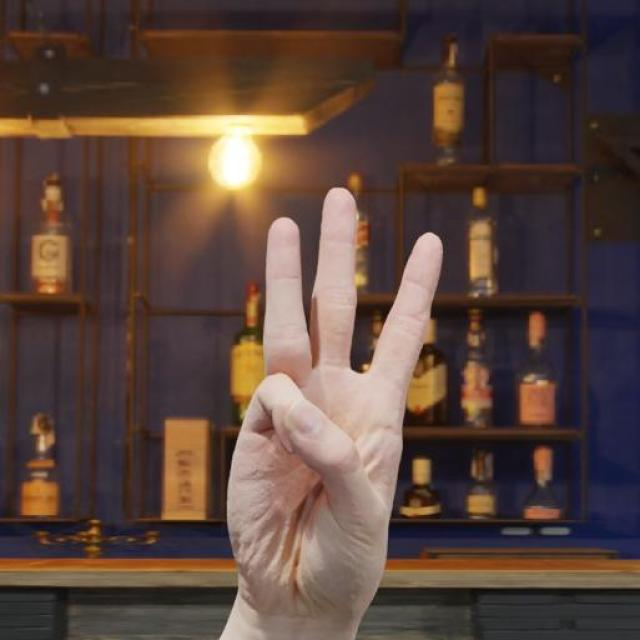W: (195, 159, 464, 640)
